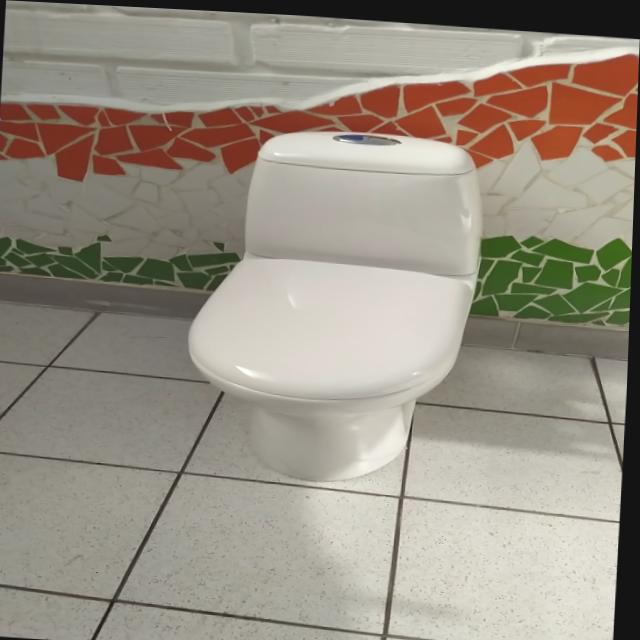toilet: (183, 117, 490, 487)
